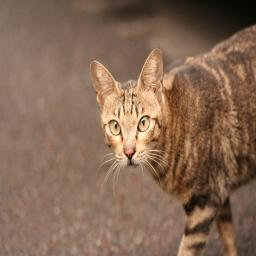catnose: (122, 146, 137, 162)
